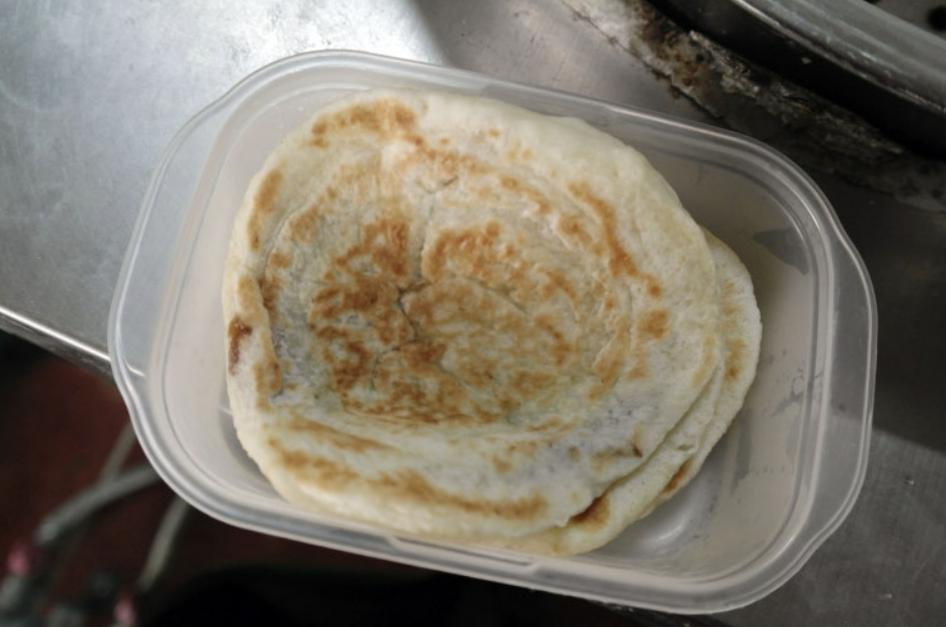Lunch Box: (108, 53, 874, 612)
